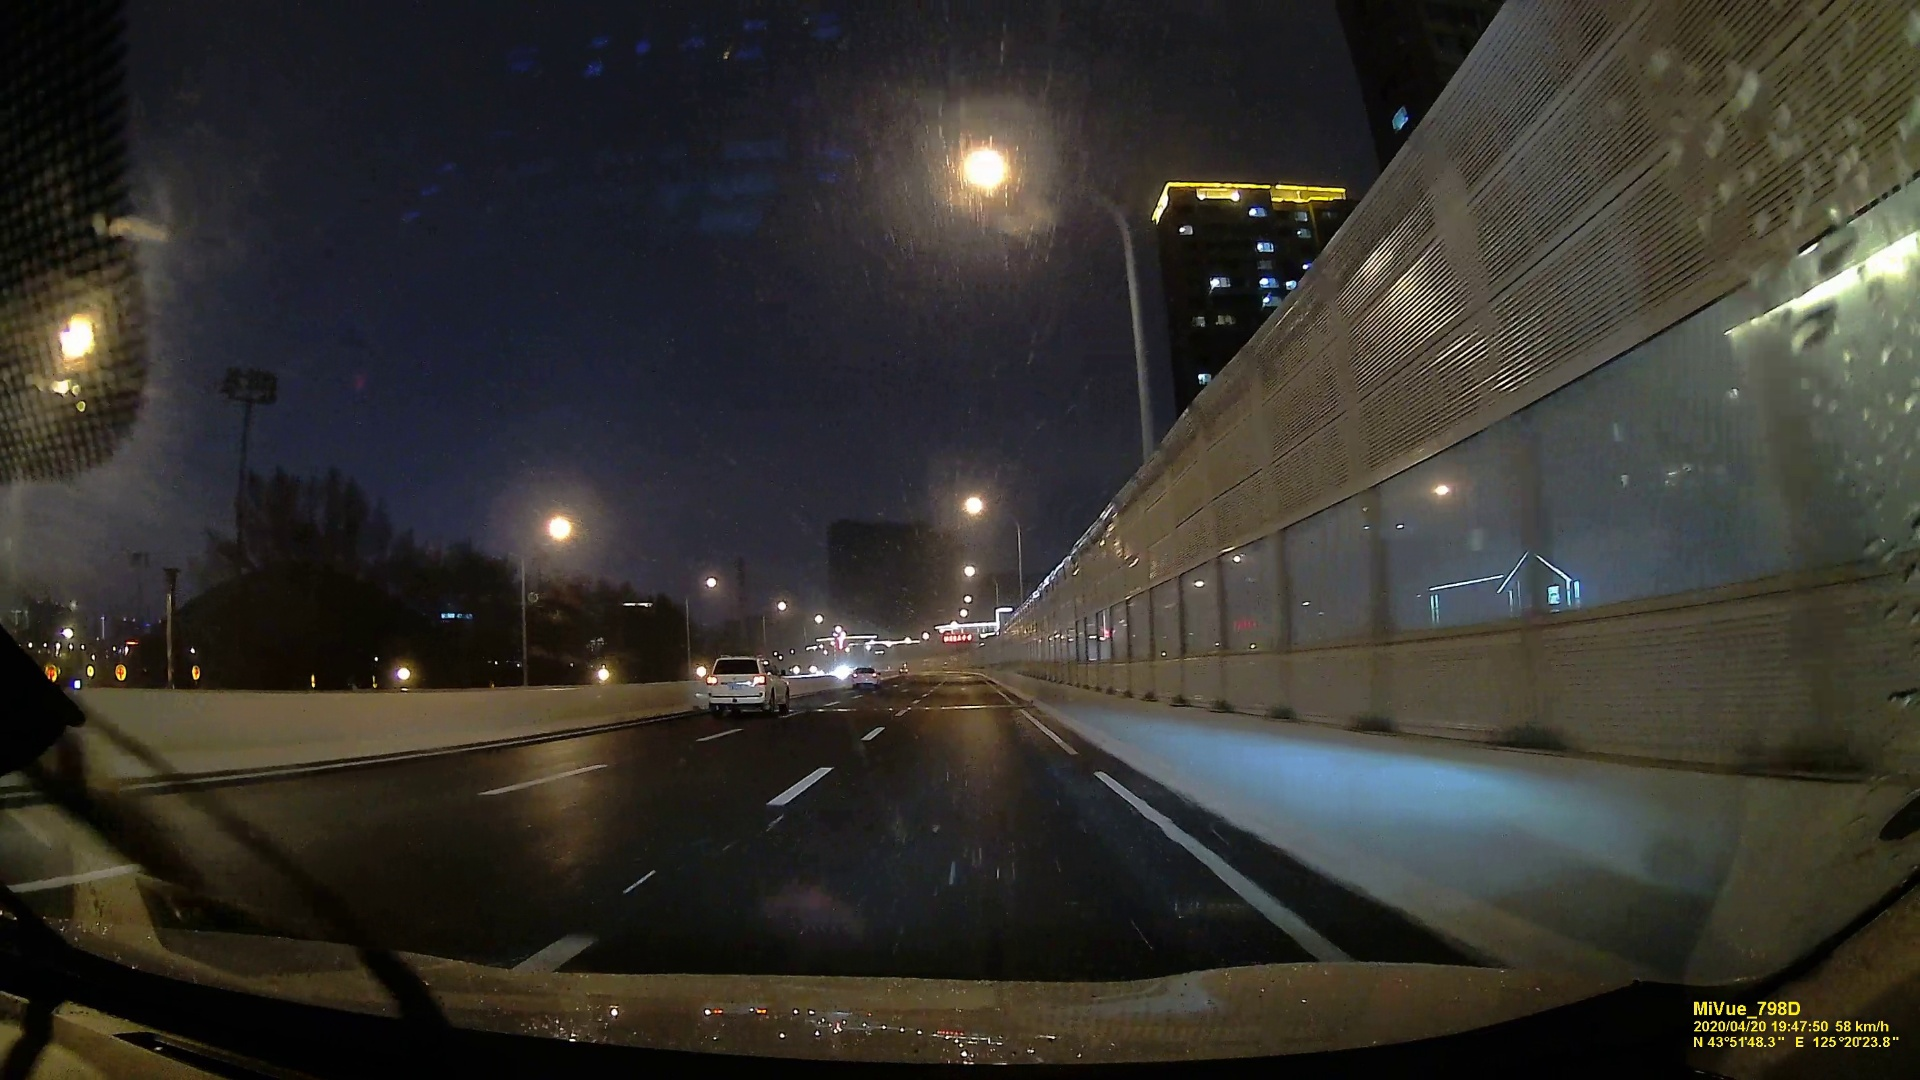vehicle: (705, 651, 794, 713), (852, 665, 878, 684)
